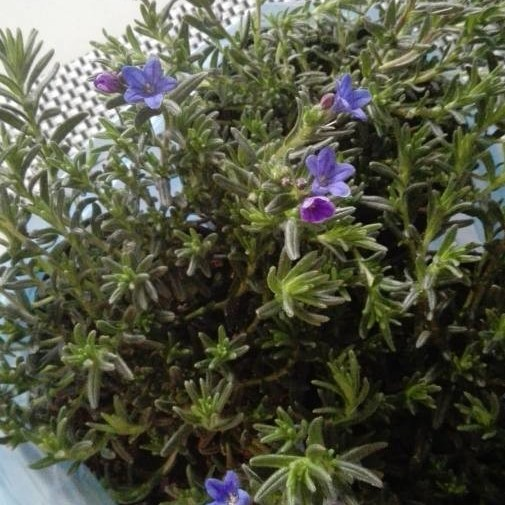obstacle: (64, 28, 457, 461)
